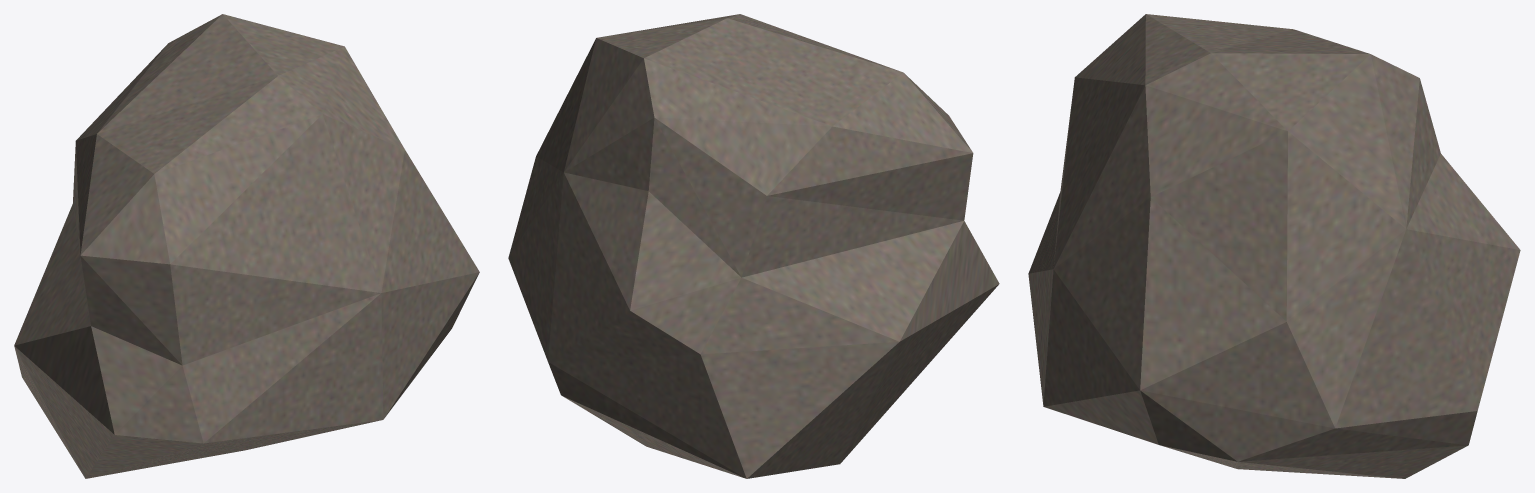
Rendered from rock1.001.obj.
3 renders of one model, left to right at view 1: azimuth 30°, elevation 25°; view 2: azimuth 150°, elevation 25°; view 3: azimuth 270°, elevation 25°, orthographic. The views are drawn at different scales.
Visible parts, largest first — view 1: rock1.001_Cube.023; view 2: rock1.001_Cube.023; view 3: rock1.001_Cube.023.
Boxes of the visible parts, x1=… form: rock1.001_Cube.023: x1=14, y1=14, x2=479, y2=478; rock1.001_Cube.023: x1=508, y1=14, x2=999, y2=478; rock1.001_Cube.023: x1=1028, y1=14, x2=1520, y2=478.
Size of the model in its own units: 128 by 124 by 122.
